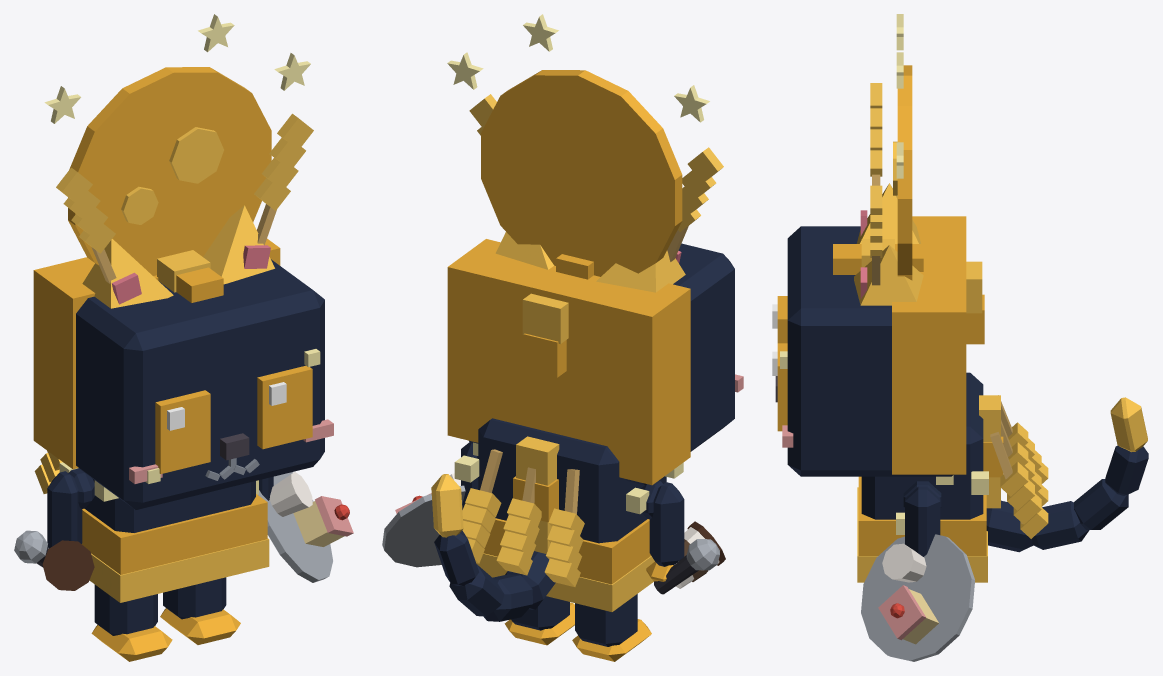
The model's file is CatCafe_Cat_HarvestMoon_Work.fbx.
3 views of the same model, side by side, from view 1: azimuth 30°, elevation 25°; view 2: azimuth 150°, elevation 25°; view 3: azimuth 270°, elevation 25° (orthographic). The views are drawn at different scales.
Visible parts, largest first — view 1: CatCafe_Cat_HarvestMoon_Work_Head, CatCafe_Cat_HarvestMoon_Work_Glow, CatCafe_Cat_HarvestMoon_Work_Body, CatCafe_Cat_HarvestMoon_Work_Held_Waiter, CatCafe_Cat_HarvestMoon_Work_Prop, CatCafe_Cat_HarvestMoon_Work_Eye1, CatCafe_Cat_HarvestMoon_Work_Eye2, CatCafe_Cat_HarvestMoon_Work_LegB2, CatCafe_Cat_HarvestMoon_Work_LegB1, CatCafe_Cat_HarvestMoon_Work_EarL, CatCafe_Cat_HarvestMoon_Work_EarR, CatCafe_Cat_HarvestMoon_Work_LegF2 (+3 smaller); view 2: CatCafe_Cat_HarvestMoon_Work_Head, CatCafe_Cat_HarvestMoon_Work_Glow, CatCafe_Cat_HarvestMoon_Work_Body, CatCafe_Cat_HarvestMoon_Work_Tail, CatCafe_Cat_HarvestMoon_Work_Wheat_Glow, CatCafe_Cat_HarvestMoon_Work_LegB2, CatCafe_Cat_HarvestMoon_Work_Held_Waiter, CatCafe_Cat_HarvestMoon_Work_LegF2, CatCafe_Cat_HarvestMoon_Work_Prop, CatCafe_Cat_HarvestMoon_Work_LegB1, CatCafe_Cat_HarvestMoon_Work_EarR, CatCafe_Cat_HarvestMoon_Work_Held_Entertainer (+3 smaller); view 3: CatCafe_Cat_HarvestMoon_Work_Head, CatCafe_Cat_HarvestMoon_Work_Body, CatCafe_Cat_HarvestMoon_Work_Held_Waiter, CatCafe_Cat_HarvestMoon_Work_Tail, CatCafe_Cat_HarvestMoon_Work_Glow, CatCafe_Cat_HarvestMoon_Work_Wheat_Glow, CatCafe_Cat_HarvestMoon_Work_Prop, CatCafe_Cat_HarvestMoon_Work_EarL, CatCafe_Cat_HarvestMoon_Work_LegF1, CatCafe_Cat_HarvestMoon_Work_EarR, CatCafe_Cat_HarvestMoon_Work_Eye1, CatCafe_Cat_HarvestMoon_Work_Prop2 (+1 smaller).
Boxes of the visible parts, x1,y1,x2,y2 form: CatCafe_Cat_HarvestMoon_Work_Head: [33, 238, 333, 509]; CatCafe_Cat_HarvestMoon_Work_Glow: [44, 14, 310, 275]; CatCafe_Cat_HarvestMoon_Work_Body: [59, 462, 269, 602]; CatCafe_Cat_HarvestMoon_Work_Held_Waiter: [258, 472, 353, 582]; CatCafe_Cat_HarvestMoon_Work_Prop: [56, 113, 313, 283]; CatCafe_Cat_HarvestMoon_Work_Eye1: [257, 365, 312, 449]; CatCafe_Cat_HarvestMoon_Work_Eye2: [155, 390, 210, 473]; CatCafe_Cat_HarvestMoon_Work_LegB2: [91, 584, 172, 661]; CatCafe_Cat_HarvestMoon_Work_LegB1: [160, 577, 240, 644]; CatCafe_Cat_HarvestMoon_Work_EarL: [203, 205, 274, 284]; CatCafe_Cat_HarvestMoon_Work_EarR: [82, 239, 173, 308]; CatCafe_Cat_HarvestMoon_Work_LegF2: [47, 471, 82, 548]; CatCafe_Cat_HarvestMoon_Work_Head: [447, 239, 743, 485]; CatCafe_Cat_HarvestMoon_Work_Glow: [447, 14, 709, 276]; CatCafe_Cat_HarvestMoon_Work_Body: [454, 418, 683, 611]; CatCafe_Cat_HarvestMoon_Work_Tail: [431, 474, 555, 621]; CatCafe_Cat_HarvestMoon_Work_Wheat_Glow: [462, 488, 584, 586]; CatCafe_Cat_HarvestMoon_Work_LegB2: [572, 594, 651, 661]; CatCafe_Cat_HarvestMoon_Work_Held_Waiter: [382, 473, 465, 567]; CatCafe_Cat_HarvestMoon_Work_LegF2: [646, 482, 684, 581]; CatCafe_Cat_HarvestMoon_Work_Prop: [469, 94, 723, 261]; CatCafe_Cat_HarvestMoon_Work_LegB1: [504, 596, 574, 645]; CatCafe_Cat_HarvestMoon_Work_EarR: [596, 250, 685, 292]; CatCafe_Cat_HarvestMoon_Work_Held_Entertainer: [654, 539, 719, 594]; CatCafe_Cat_HarvestMoon_Work_Head: [775, 216, 984, 476]; CatCafe_Cat_HarvestMoon_Work_Body: [857, 372, 1003, 582]; CatCafe_Cat_HarvestMoon_Work_Held_Waiter: [861, 534, 974, 661]; CatCafe_Cat_HarvestMoon_Work_Tail: [986, 397, 1148, 552]; CatCafe_Cat_HarvestMoon_Work_Glow: [893, 14, 912, 280]; CatCafe_Cat_HarvestMoon_Work_Wheat_Glow: [1000, 422, 1048, 538]; CatCafe_Cat_HarvestMoon_Work_Prop: [870, 83, 882, 285]; CatCafe_Cat_HarvestMoon_Work_EarL: [854, 245, 923, 305]; CatCafe_Cat_HarvestMoon_Work_LegF1: [905, 486, 940, 556]; CatCafe_Cat_HarvestMoon_Work_EarR: [856, 183, 920, 243]; CatCafe_Cat_HarvestMoon_Work_Eye1: [772, 343, 787, 431]; CatCafe_Cat_HarvestMoon_Work_Prop2: [990, 395, 1022, 523].
Size of the model in its own units: 1.53 by 2.79 by 1.62.
Materials: 1 (1 with a texture image).
